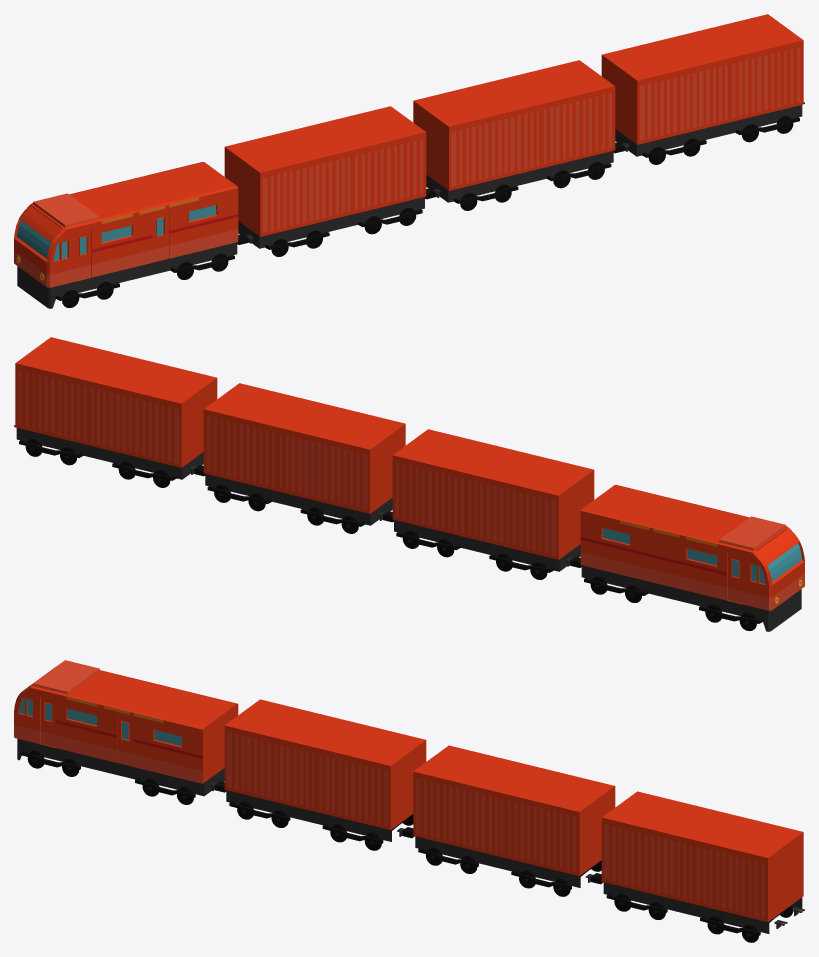
The model's file is pociąg towarowy.FBX.
3 views of the same model, one above another, from view 1: azimuth 30°, elevation 25°; view 2: azimuth 150°, elevation 25°; view 3: azimuth 330°, elevation 25° (orthographic).
Parts seen in each view (by area): view 1: wagon1, wagon2, wagon3, Plane003, drzwi; view 2: Plane003, wagon1, wagon2, wagon3, drzwi2; view 3: wagon3, wagon1, wagon2, Plane003, drzwi.
Part boxes in pixels (x1,y1,x2,y2): wagon1: [224, 106, 426, 256]; wagon2: [413, 60, 615, 210]; wagon3: [601, 14, 803, 164]; Plane003: [14, 102, 804, 308]; drzwi: [76, 211, 168, 280]; Plane003: [14, 425, 804, 631]; wagon1: [392, 429, 594, 579]; wagon2: [203, 383, 405, 533]; wagon3: [15, 337, 217, 487]; drzwi2: [727, 553, 742, 603]; wagon3: [601, 791, 803, 942]; wagon1: [224, 699, 426, 850]; wagon2: [413, 745, 615, 896]; Plane003: [14, 660, 804, 928]; drzwi: [41, 697, 133, 766].
Bounding box in the file's own units: 121 × 13.47 × 11.37.
